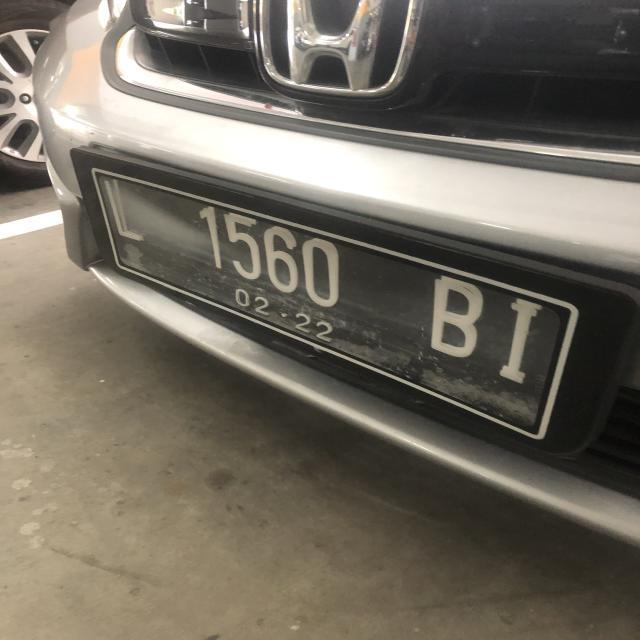0: (299, 237, 344, 312)
1: (195, 204, 226, 272)
5: (224, 209, 266, 281)
6: (259, 223, 302, 294)
B: (425, 272, 487, 362)
I: (494, 298, 546, 387)
L: (102, 176, 150, 248)
